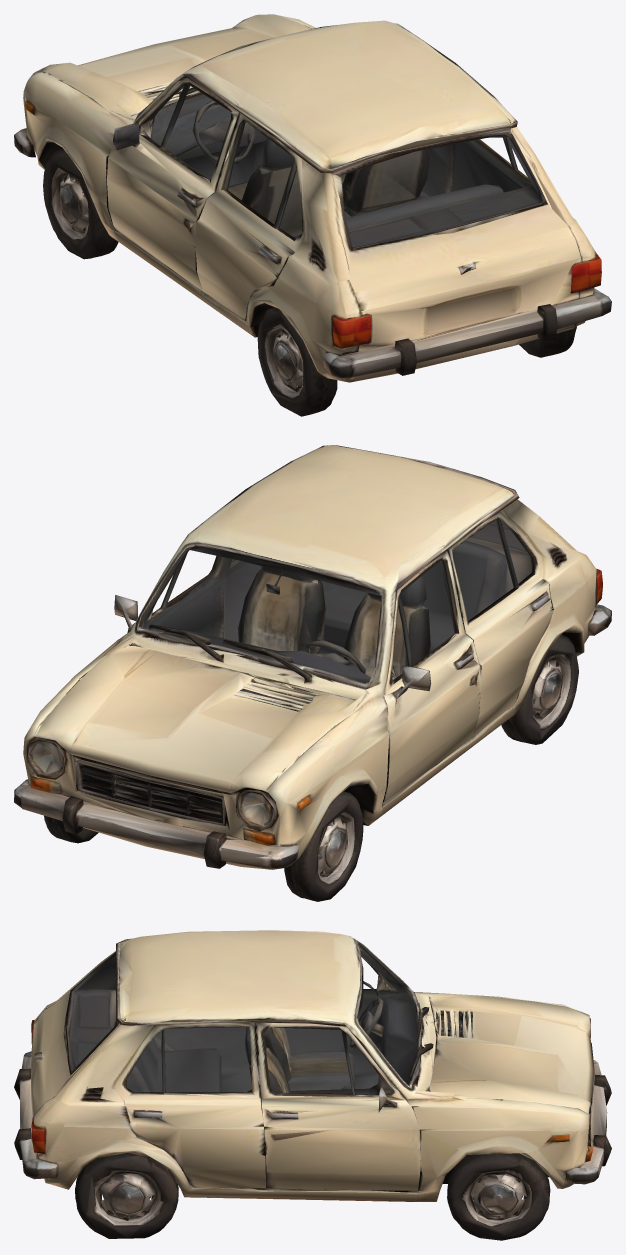
The model's file is car.glb.
3 renders of one model, top to bottom at view 1: azimuth 30°, elevation 25°; view 2: azimuth 150°, elevation 25°; view 3: azimuth 270°, elevation 25°, orthographic. The views are drawn at different scales.
Parts seen in each view (by area): view 1: TripoCar_Mesh; view 2: TripoCar_Mesh; view 3: TripoCar_Mesh.
Part boxes in pixels (left/top/right/bottom): TripoCar_Mesh: left=14, top=14, right=611, bottom=416; TripoCar_Mesh: left=14, top=445, right=611, bottom=901; TripoCar_Mesh: left=14, top=930, right=611, bottom=1240.
Size of the model in its own units: 1.8 by 1.4 by 3.4.
1 material, 1 textured.
